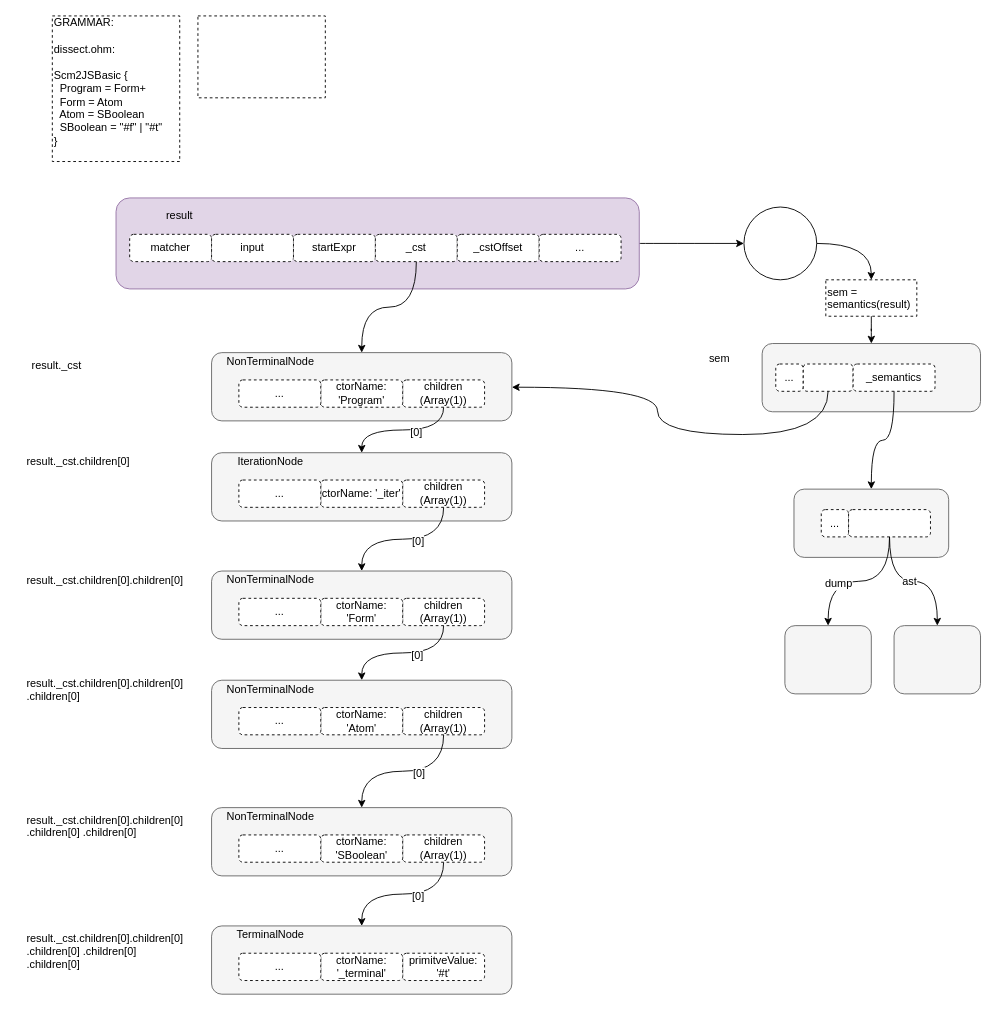
Image size: 996x1010. Some labels were removed from this diagram. The shapes that lost their labels are listed below. From the top down, each one's box as (x1, y1, x2, y2) in pixels, then its label:
(197, 15, 325, 98): INPUT: dissect.scm: #t
(743, 206, 817, 280): semantics()
(802, 363, 853, 391): _node
(848, 509, 930, 537): operations
